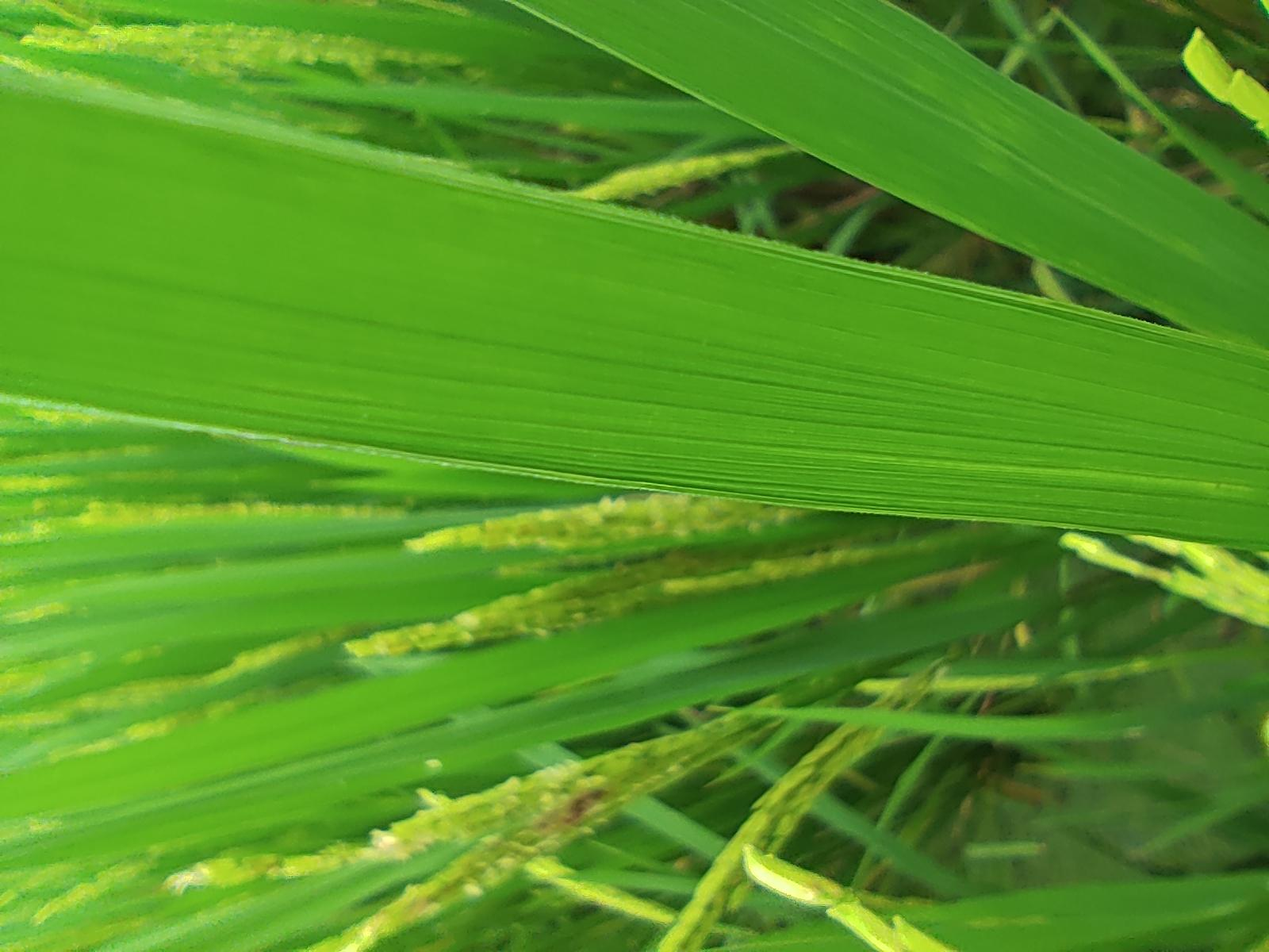Healthy: (537, 0, 1154, 951)
